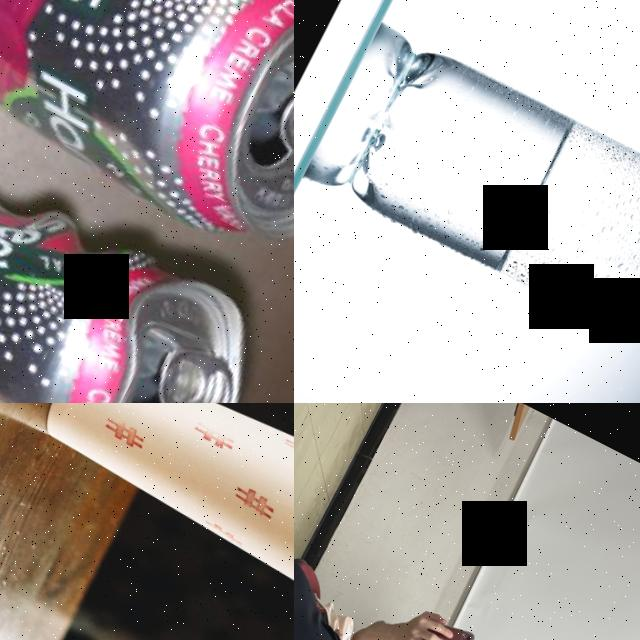bottle: (340, 36, 640, 377)
can: (0, 0, 294, 289)
cup: (7, 403, 294, 627)
